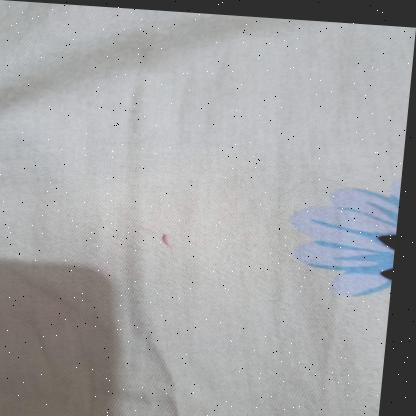spot: (158, 230, 181, 249)
